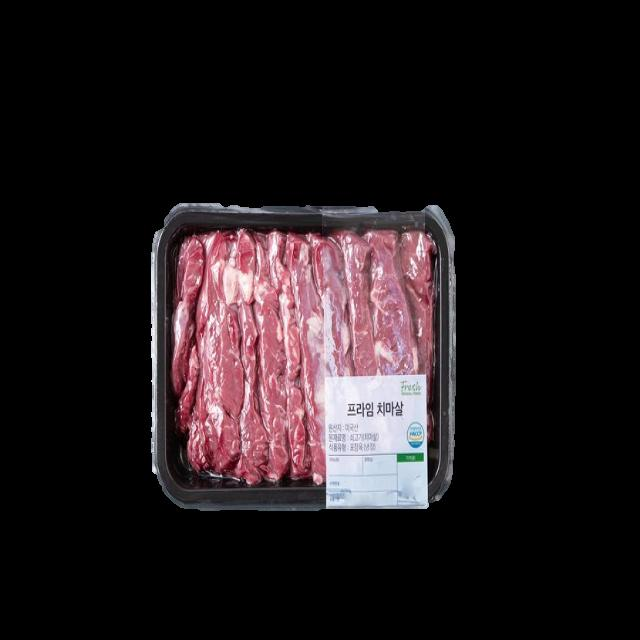beef: (170, 215, 327, 499)
